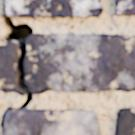brick: (3, 109, 99, 134), (4, 0, 102, 17), (115, 108, 134, 134), (115, 0, 134, 14)
broken_brick: (25, 32, 134, 94), (0, 38, 23, 96)
crack: (0, 2, 33, 132)
